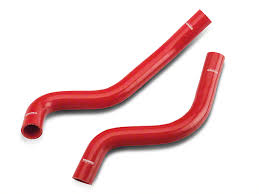radiator_hose: (22, 10, 211, 139), (74, 52, 224, 185)
